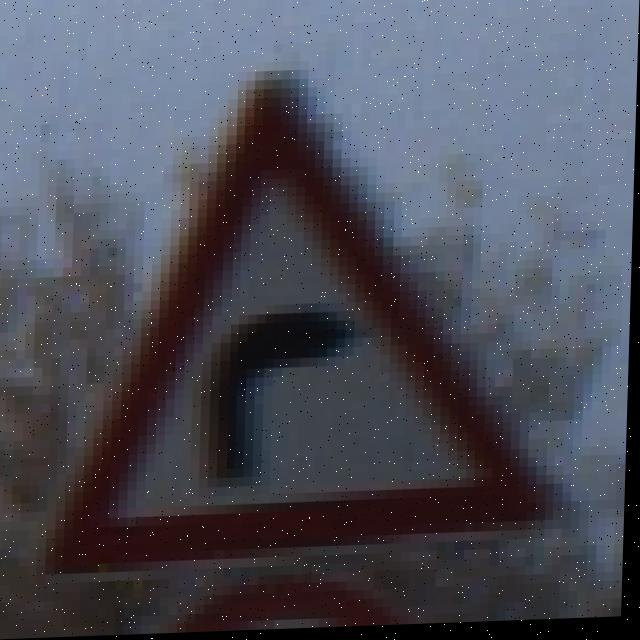right_turn: (56, 91, 576, 569)
